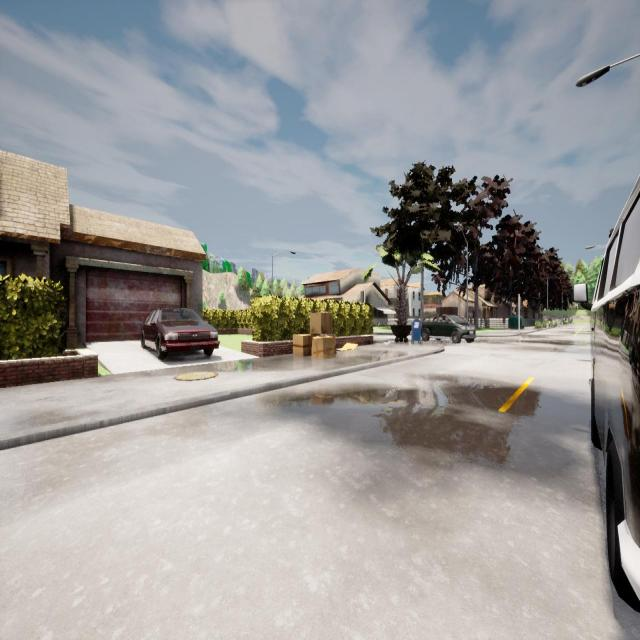Vehicle: (573, 176, 640, 616), (141, 307, 220, 359), (422, 314, 476, 343)
traffic_light: (360, 292, 364, 302), (518, 298, 521, 308)
